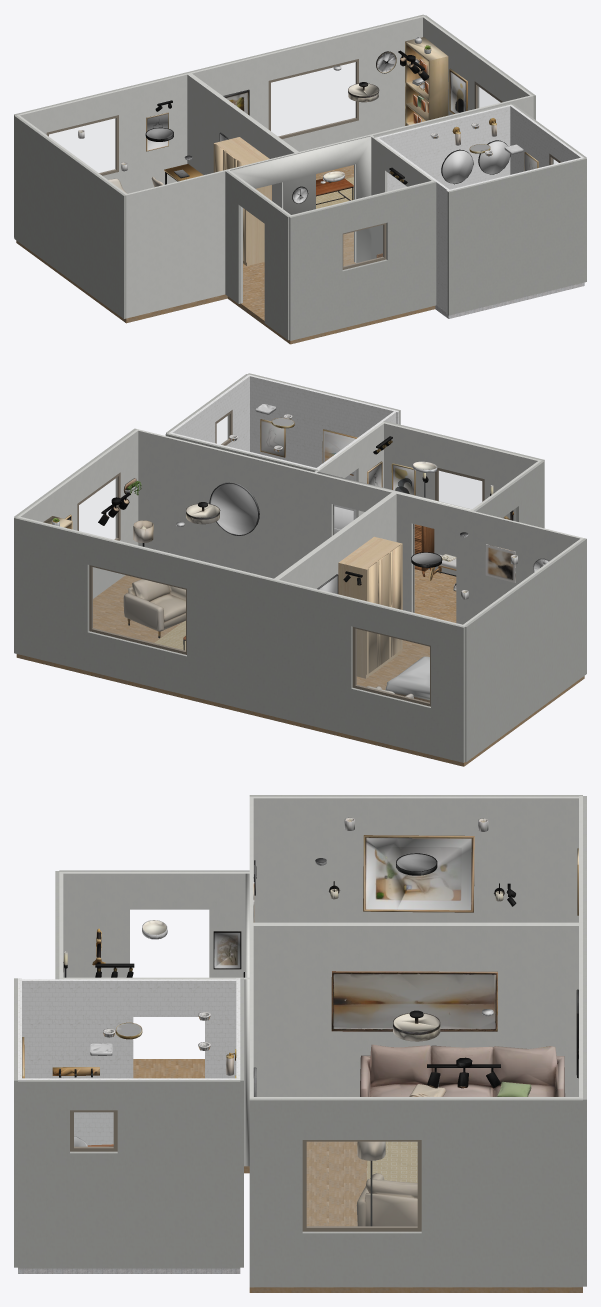
Rendered from scene_named.glb.
The picture shows the model from 3 angles, top to bottom: view 1: azimuth 30°, elevation 25°; view 2: azimuth 150°, elevation 25°; view 3: azimuth 270°, elevation 25°; orthographic projection. The views are drawn at different scales.
Parts seen in each view (by area): view 1: south_wall_exterior_bathroom/south_wall_exterior_bathroom/ge, south_wall_exterior_hallway/south_wall_exterior_hallway/geom, west_wall_exterior_bedroom/west_wall_exterior_bedroom/geomet, south_wall_bedroom/south_wall_bedroom/geometry_0, north_wall_living_room/north_wall_living_room/geometry_0, north_wall_bedroom/north_wall_bedroom/geometry_0, west_wall_exterior_hallway/west_wall_exterior_hallway/geomet, north_wall_hallway/north_wall_hallway/geometry_0, north_wall_bathroom/north_wall_bathroom/geometry_0, east_wall_bedroom/east_wall_bedroom/geometry_0, window_1_living_room/window_1_living_room/glass, east_wall_living_room/east_wall_living_room/geometry_0 (+26 smaller); view 2: north_wall_exterior_living_room/north_wall_exterior_living_r, north_wall_exterior_bedroom/north_wall_exterior_bedroom/geom, south_wall_living_room/south_wall_living_room/geometry_0, west_wall_exterior_bedroom/west_wall_exterior_bedroom/geomet, south_wall_bedroom/south_wall_bedroom/geometry_0, south_wall_bathroom/south_wall_bathroom/geometry_0, south_wall_hallway/south_wall_hallway/geometry_0, window_1_living_room/window_1_living_room/glass, east_wall_living_room/east_wall_living_room/geometry_0, window_3_bedroom/window_3_bedroom/glass, east_wall_bedroom/east_wall_bedroom/geometry_0, floor_living_room (+25 smaller); view 3: east_wall_exterior_living_room/east_wall_exterior_living_roo, east_wall_exterior_bathroom/east_wall_exterior_bathroom/geom, west_wall_living_room/west_wall_living_room/geometry_0, west_wall_bedroom/west_wall_bedroom/geometry_0, west_wall_bathroom/west_wall_bathroom/geometry_0, west_wall_hallway/west_wall_hallway/geometry_0, window_2_living_room/window_2_living_room/glass, wall_print_0, sofa_0, painting_0, floor_living_room, armchair_0.001 (+21 smaller).
Part boxes in pixels (bbox=[...]): south_wall_exterior_bathroom/south_wall_exterior_bathroom/ge: bbox=[447, 158, 586, 315]; south_wall_exterior_hallway/south_wall_exterior_hallway/geom: bbox=[289, 181, 436, 340]; west_wall_exterior_bedroom/west_wall_exterior_bedroom/geomet: bbox=[14, 115, 126, 318]; south_wall_bedroom/south_wall_bedroom/geometry_0: bbox=[126, 153, 295, 318]; north_wall_living_room/north_wall_living_room/geometry_0: bbox=[191, 16, 422, 151]; north_wall_bedroom/north_wall_bedroom/geometry_0: bbox=[15, 73, 190, 193]; west_wall_exterior_hallway/west_wall_exterior_hallway/geomet: bbox=[225, 170, 289, 340]; north_wall_hallway/north_wall_hallway/geometry_0: bbox=[230, 136, 371, 262]; north_wall_bathroom/north_wall_bathroom/geometry_0: bbox=[375, 105, 510, 190]; east_wall_bedroom/east_wall_bedroom/geometry_0: bbox=[187, 74, 297, 207]; window_1_living_room/window_1_living_room/glass: bbox=[271, 62, 355, 136]; east_wall_living_room/east_wall_living_room/geometry_0: bbox=[422, 15, 531, 115]; north_wall_exterior_living_room/north_wall_exterior_living_r: bbox=[14, 517, 274, 715]; north_wall_exterior_bedroom/north_wall_exterior_bedroom/geom: bbox=[272, 580, 465, 762]; south_wall_living_room/south_wall_living_room/geometry_0: bbox=[136, 429, 395, 578]; west_wall_exterior_bedroom/west_wall_exterior_bedroom/geomet: bbox=[465, 538, 586, 762]; south_wall_bedroom/south_wall_bedroom/geometry_0: bbox=[396, 492, 581, 624]; south_wall_bathroom/south_wall_bathroom/geometry_0: bbox=[250, 375, 399, 510]; south_wall_hallway/south_wall_hallway/geometry_0: bbox=[384, 422, 538, 575]; window_1_living_room/window_1_living_room/glass: bbox=[93, 567, 185, 650]; east_wall_living_room/east_wall_living_room/geometry_0: bbox=[17, 430, 138, 598]; window_3_bedroom/window_3_bedroom/glass: bbox=[356, 629, 429, 702]; east_wall_bedroom/east_wall_bedroom/geometry_0: bbox=[276, 492, 397, 588]; floor_living_room: bbox=[16, 575, 274, 720]; east_wall_exterior_living_room/east_wall_exterior_living_roo: bbox=[249, 1098, 582, 1287]; east_wall_exterior_bathroom/east_wall_exterior_bathroom/geom: bbox=[18, 1080, 240, 1268]; west_wall_living_room/west_wall_living_room/geometry_0: bbox=[253, 924, 582, 1096]; west_wall_bedroom/west_wall_bedroom/geometry_0: bbox=[249, 796, 582, 922]; west_wall_bathroom/west_wall_bathroom/geometry_0: bbox=[18, 979, 240, 1145]; west_wall_hallway/west_wall_hallway/geometry_0: bbox=[59, 872, 249, 977]; window_2_living_room/window_2_living_room/glass: bbox=[307, 1142, 417, 1226]; wall_print_0: bbox=[331, 971, 497, 1031]; sofa_0: bbox=[360, 1044, 565, 1096]; painting_0: bbox=[363, 835, 474, 912]; floor_living_room: bbox=[249, 1141, 582, 1292]; armchair_0.001: bbox=[356, 1173, 417, 1226].
Size of the model in its own units: 9.1 by 2.7 by 7.22.
Materials: 112 (110 with a texture image).
